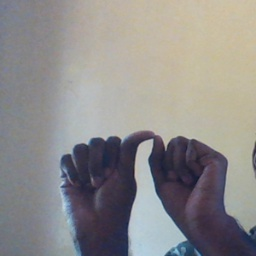A: (58, 127, 231, 231)
